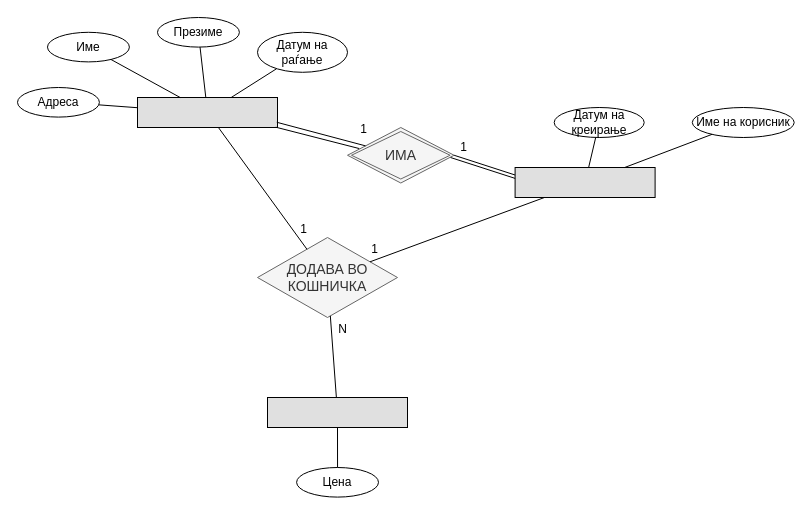
This 812x515 diagram has some shape labels left out. Here are the shapes that lost their labels. From the top down, the centre of each, then its label:
At point 207,112: "КОРИСНИК".
At point 584,182: "КОШНИЧКА".
At point 337,412: "ПРОИЗВОД".
